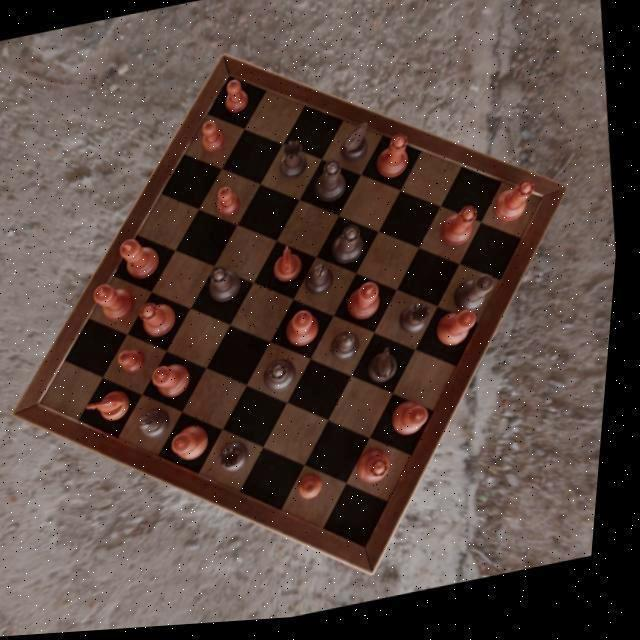chess-table-corners: (28, 385, 65, 423), (354, 528, 394, 562), (216, 74, 252, 98), (532, 192, 558, 218)
